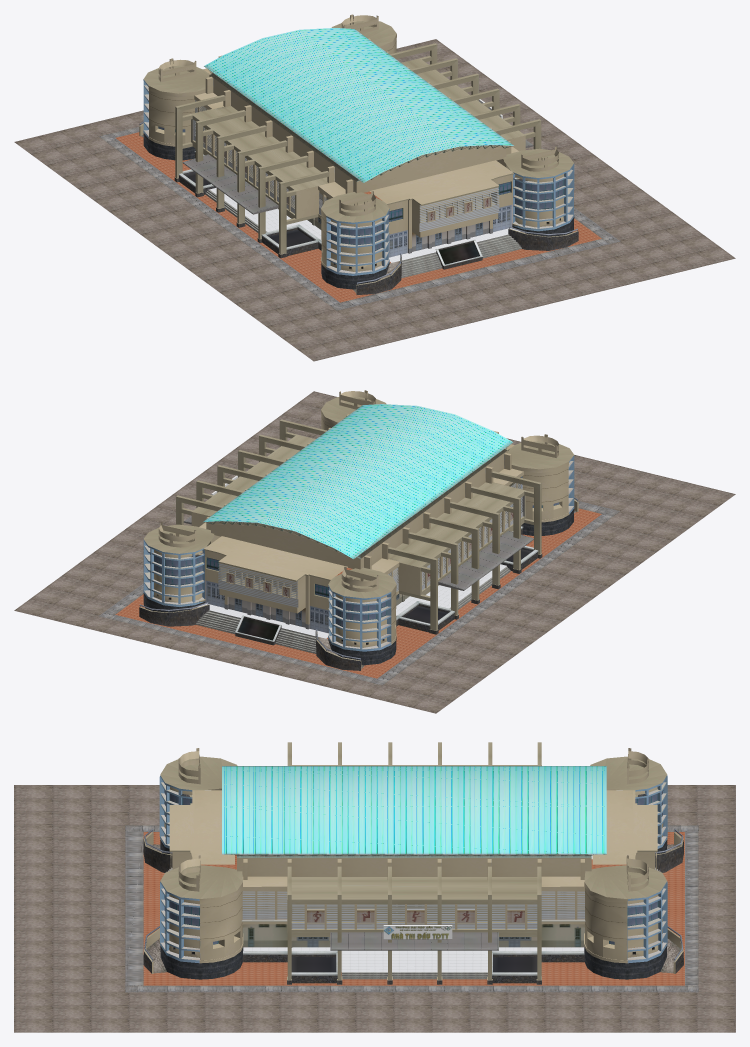
The model's file is 1782868935334-sporting_event_hall.glb.
The picture shows the model from 3 angles, top to bottom: view 1: azimuth 30°, elevation 25°; view 2: azimuth 150°, elevation 25°; view 3: azimuth 270°, elevation 25°; orthographic projection. The views are drawn at different scales.
Parts seen in each view (by area): view 1: polySurface478; view 2: polySurface478; view 3: polySurface478.
Boxes of the visible parts, <box> form: polySurface478: <box>14,14,735,361</box>; polySurface478: <box>14,390,735,713</box>; polySurface478: <box>14,742,735,1032</box>.
Size of the model in its own units: 113 by 25.02 by 138.
8 materials, 7 textured.
